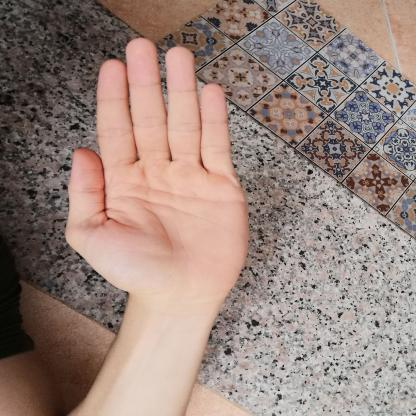SEEN: (53, 27, 260, 318)
